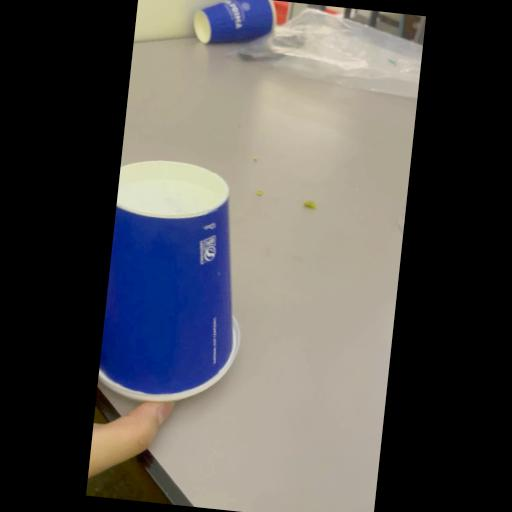lp_paper_cup: (97, 161, 256, 407), (191, 0, 278, 50)
